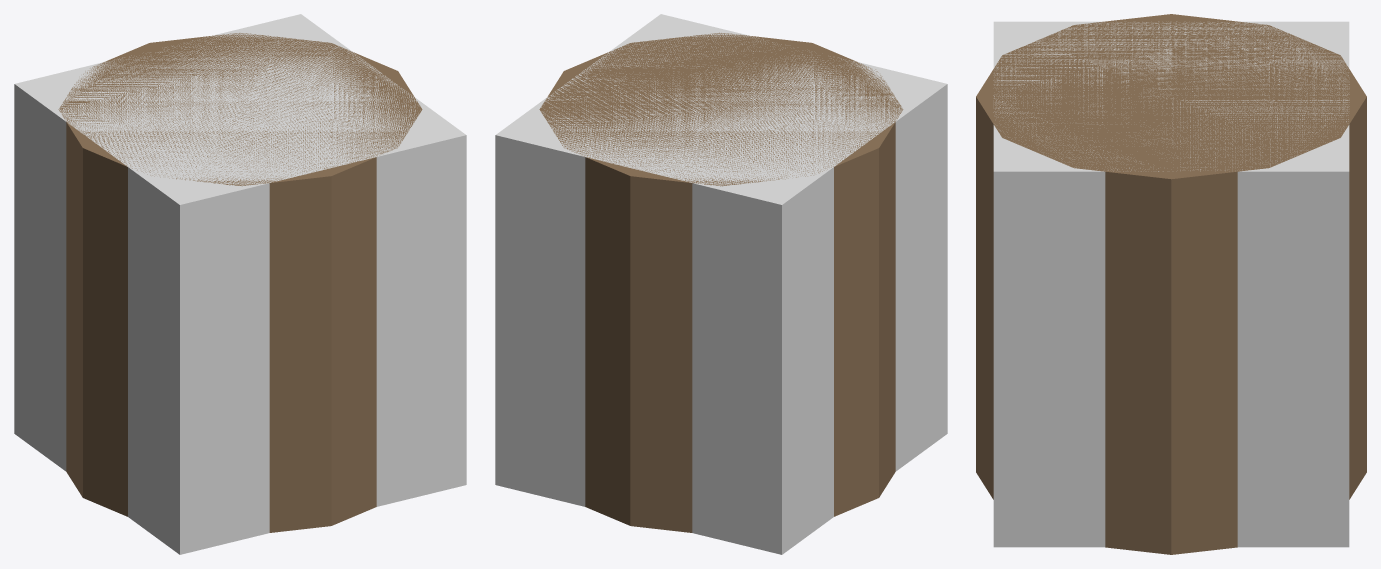
File: fortress_oak_barrel.glb
The picture shows the model from 3 angles, left to right: view 1: azimuth 30°, elevation 25°; view 2: azimuth 150°, elevation 25°; view 3: azimuth 270°, elevation 25°; orthographic projection. The views are drawn at different scales.
Visible parts, largest first — view 1: FortressOakBarrel-col, FortressOakBarrel; view 2: FortressOakBarrel-col, FortressOakBarrel; view 3: FortressOakBarrel, FortressOakBarrel-col.
Boxes of the visible parts, x1,y1,x2,y2 form: FortressOakBarrel-col: (14, 14, 466, 554); FortressOakBarrel: (58, 33, 422, 532); FortressOakBarrel-col: (495, 14, 947, 554); FortressOakBarrel: (539, 32, 903, 532); FortressOakBarrel: (976, 14, 1366, 554); FortressOakBarrel-col: (993, 21, 1349, 547).
Size of the model in its own units: 0.99 by 1.05 by 0.99.
